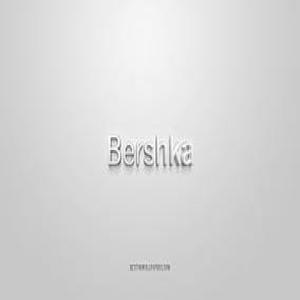bershka: (108, 131, 196, 177)
